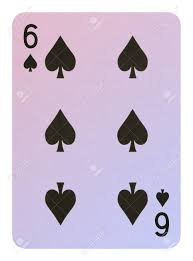six of spades: (12, 14, 179, 247)
